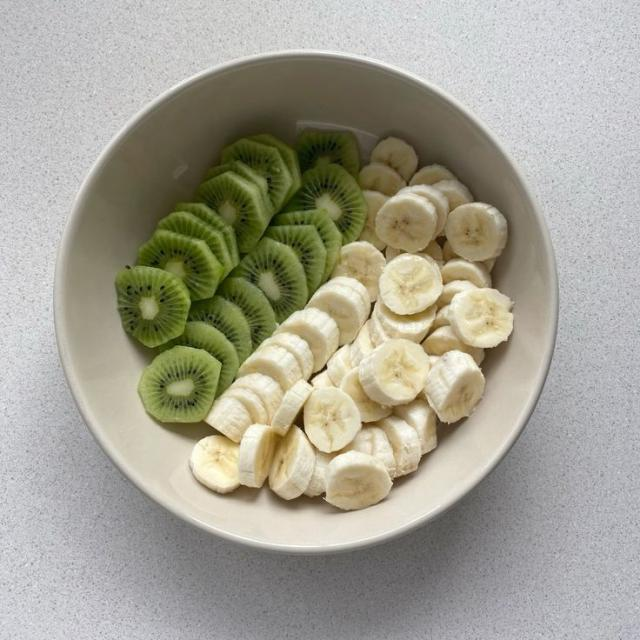banana slice: (359, 340, 428, 406), (425, 351, 485, 423), (307, 277, 370, 345), (275, 308, 339, 372), (326, 452, 392, 510), (449, 288, 513, 347), (380, 254, 442, 314), (304, 388, 361, 452), (445, 203, 507, 261), (376, 193, 437, 251), (269, 427, 315, 499), (333, 241, 386, 301), (237, 345, 302, 390), (340, 367, 392, 422), (341, 426, 395, 478), (190, 436, 239, 493), (376, 415, 421, 477), (373, 300, 436, 342), (230, 374, 283, 422), (259, 332, 313, 379), (238, 424, 278, 487), (400, 185, 449, 236), (422, 326, 484, 365), (394, 398, 437, 454), (271, 380, 313, 435), (205, 394, 253, 442), (371, 137, 418, 180), (359, 190, 388, 250), (225, 386, 267, 423), (359, 163, 406, 196), (441, 259, 491, 287), (305, 450, 335, 496), (433, 179, 473, 210), (331, 276, 371, 305), (350, 320, 375, 366), (437, 280, 476, 309), (327, 345, 353, 386), (409, 165, 455, 185), (369, 314, 392, 346), (418, 240, 443, 266), (423, 240, 443, 266), (430, 306, 449, 332), (310, 370, 335, 388), (442, 241, 459, 262), (443, 241, 459, 262), (386, 247, 405, 261), (483, 258, 496, 273), (429, 356, 439, 370)
kiwi: (284, 163, 367, 243), (231, 237, 309, 322), (138, 346, 219, 422), (117, 266, 190, 347), (137, 230, 222, 299), (160, 321, 238, 396), (197, 171, 270, 251), (222, 137, 292, 211), (272, 210, 341, 282), (267, 224, 326, 297), (217, 277, 275, 350), (157, 212, 230, 269), (190, 295, 251, 363), (174, 203, 237, 266), (249, 134, 300, 199), (296, 130, 359, 177), (204, 160, 266, 197)
